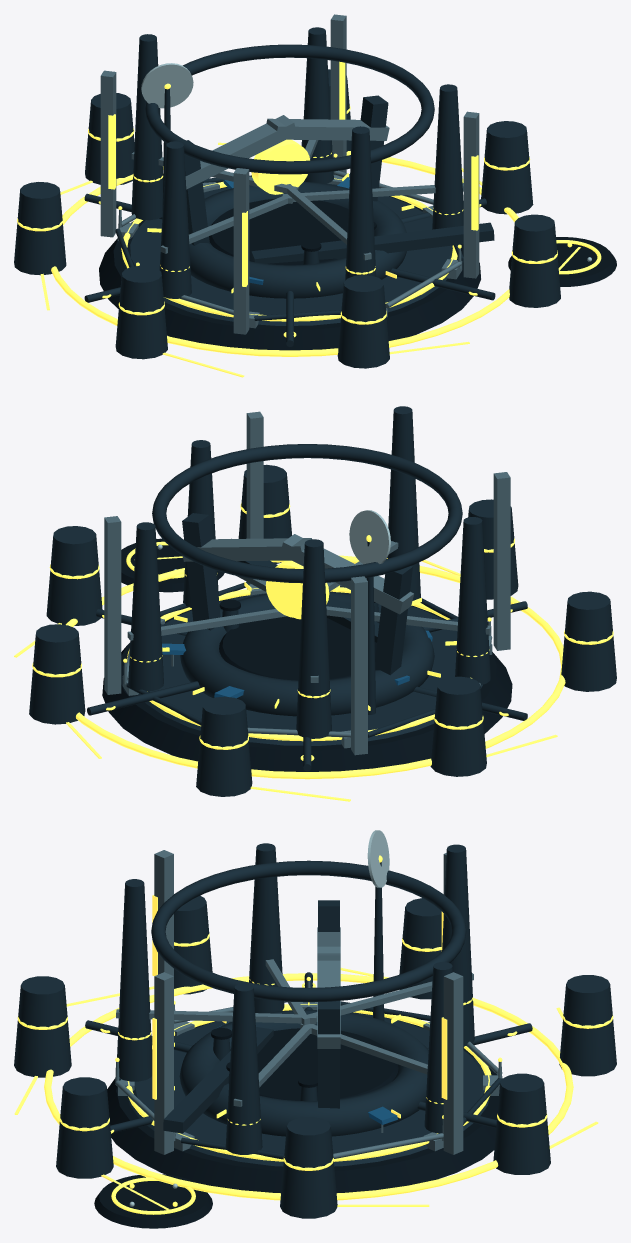
Rendered from metalMine-stage4.glb.
3 renders of one model, top to bottom at view 1: azimuth 30°, elevation 25°; view 2: azimuth 150°, elevation 25°; view 3: azimuth 270°, elevation 25°, orthographic. The views are drawn at different scales.
Parts seen in each view (by area): view 1: armored-foundation, excavation-rim, industrial-sky-ring, upper-deck, excavation-pit, refinery-annex-2, refinery-annex-1, refinery-annex-3, refinery-annex-4, refinery-annex-0, processing-tower-2, excavator-boom (×2) (+22 smaller); view 2: industrial-sky-ring, armored-foundation, excavation-rim, upper-deck, processing-tower-3, excavation-pit, excavator-tower (×2), refinery-annex-4, refinery-annex-5, refinery-annex-3, refinery-annex-6, district-grid-3 (+21 smaller); view 3: armored-foundation, industrial-sky-ring, excavation-rim, upper-deck, processing-tower-1, district-grid-3, excavation-pit, refinery-annex-1, refinery-annex-0, refinery-annex-6, refinery-annex-2, processing-tower-0 (+23 smaller).
Boxes of the visible parts, x1,y1,x2,y2 form: armored-foundation: [99, 187, 480, 350]; excavation-rim: [189, 181, 406, 298]; industrial-sky-ring: [145, 44, 434, 174]; upper-deck: [123, 183, 457, 325]; excavation-pit: [209, 198, 348, 265]; refinery-annex-2: [337, 275, 389, 368]; refinery-annex-1: [509, 214, 560, 307]; refinery-annex-3: [115, 265, 167, 359]; refinery-annex-4: [14, 182, 66, 275]; refinery-annex-0: [481, 121, 533, 214]; processing-tower-2: [159, 141, 191, 298]; excavator-boom (×2): [185, 115, 389, 189]; industrial-sky-ring: [152, 444, 462, 583]; armored-foundation: [102, 591, 512, 771]; excavation-rim: [180, 591, 434, 716]; upper-deck: [138, 593, 482, 745]; processing-tower-3: [296, 539, 331, 738]; excavation-pit: [219, 616, 376, 680]; excavator-tower (×2): [182, 513, 412, 675]; refinery-annex-4: [430, 676, 486, 776]; refinery-annex-5: [196, 696, 252, 796]; refinery-annex-3: [561, 591, 616, 691]; refinery-annex-6: [29, 624, 85, 724]; district-grid-3: [65, 555, 565, 779]; armored-foundation: [107, 1010, 502, 1193]; industrial-sky-ring: [151, 860, 466, 1002]; excavation-rim: [179, 1009, 428, 1136]; upper-deck: [127, 1012, 489, 1166]; processing-tower-1: [117, 879, 152, 1081]; district-grid-3: [44, 973, 573, 1200]; excavation-pit: [230, 1028, 398, 1100]; refinery-annex-1: [56, 1077, 113, 1178]; refinery-annex-0: [280, 1117, 337, 1218]; refinery-annex-6: [493, 1073, 550, 1174]; refinery-annex-2: [14, 976, 71, 1077]; processing-tower-0: [225, 983, 262, 1154].
Bounding box in the file's own units: 17.08 × 7.07 × 16.83.
